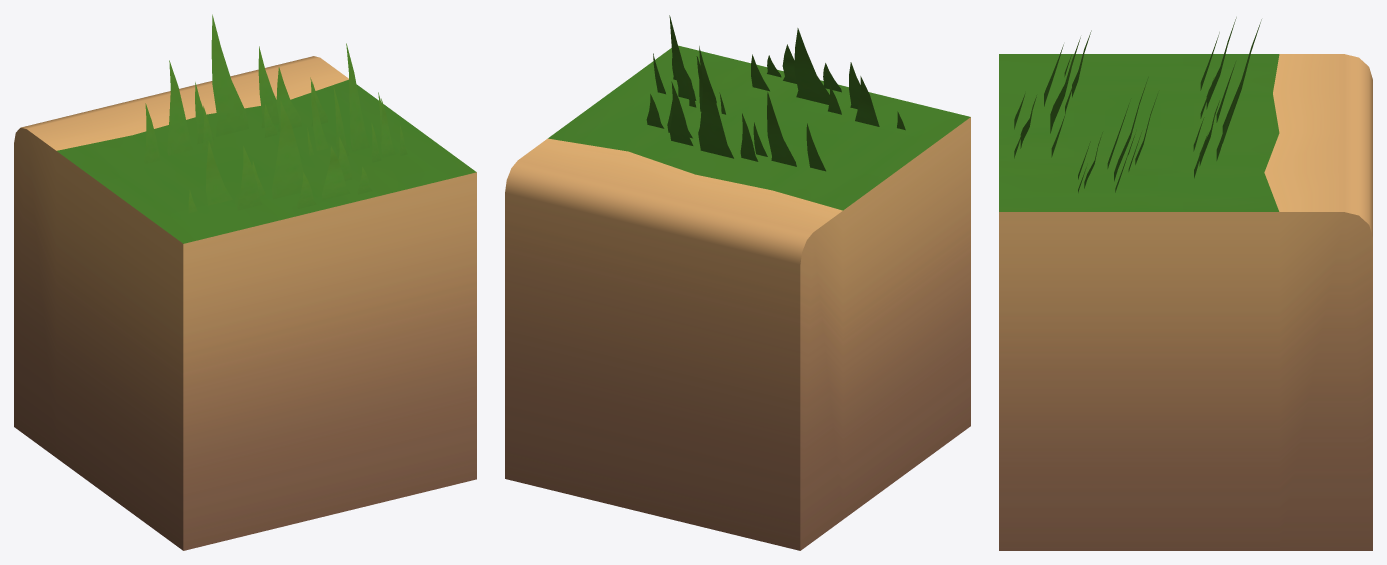
Rendered from up d tile.fbx.
3 views of the same model, side by side, from view 1: azimuth 30°, elevation 25°; view 2: azimuth 150°, elevation 25°; view 3: azimuth 270°, elevation 25° (orthographic). The views are drawn at different scales.
Visible parts, largest first — view 1: u_d_tile, u_d_grass; view 2: u_d_tile, u_d_grass; view 3: u_d_tile, u_d_grass.
Boxes of the visible parts, x1=… form: u_d_tile: x1=14, y1=56, x2=476, y2=550; u_d_grass: x1=144, y1=14, x2=407, y2=213; u_d_tile: x1=505, y1=45, x2=970, y2=550; u_d_grass: x1=646, y1=15, x2=905, y2=171; u_d_tile: x1=999, y1=54, x2=1372, y2=550; u_d_grass: x1=1014, y1=17, x2=1261, y2=192.
Bounding box in the file's own units: 10 × 13.46 × 10.
